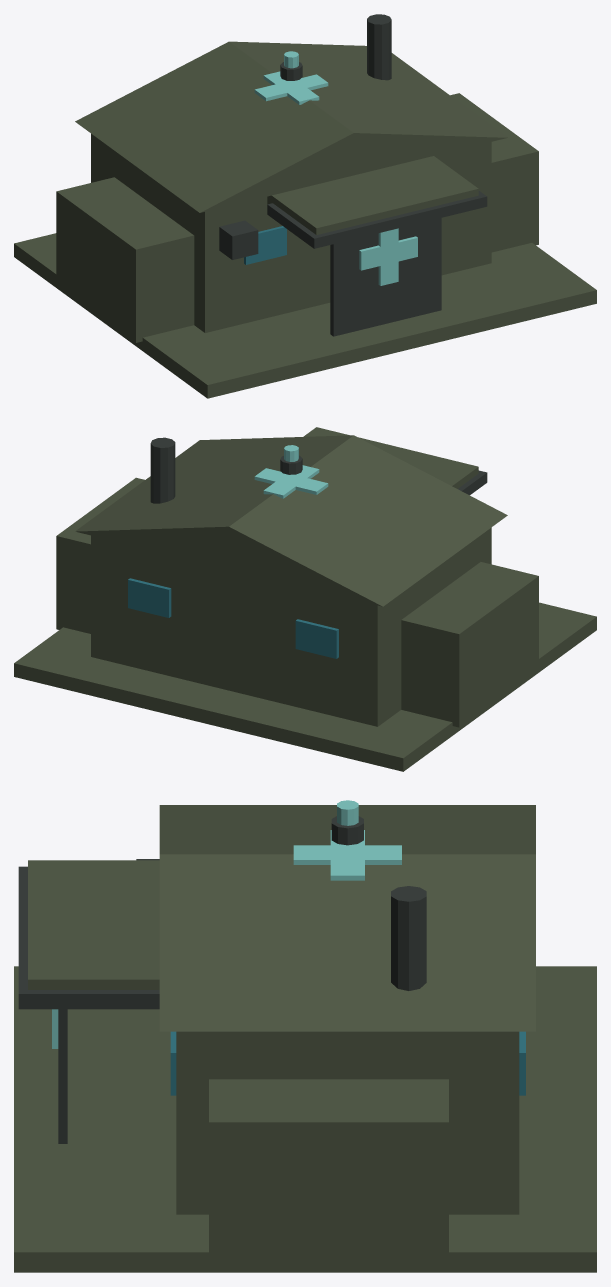
Rendered from Bastion_MASH_Static.obj.
The picture shows the model from 3 angles, top to bottom: view 1: azimuth 30°, elevation 25°; view 2: azimuth 150°, elevation 25°; view 3: azimuth 270°, elevation 25°; orthographic projection. The views are drawn at different scales.
Visible parts, largest first — view 1: Bastion_MASH_Static; view 2: Bastion_MASH_Static; view 3: Bastion_MASH_Static.
Part boxes in pixels (bbox=[...]): Bastion_MASH_Static: bbox=[14, 14, 596, 398]; Bastion_MASH_Static: bbox=[14, 427, 596, 771]; Bastion_MASH_Static: bbox=[14, 800, 596, 1272].
Size of the model in its own units: 7.45 by 3.81 by 6.2.
1 material, 1 textured.
